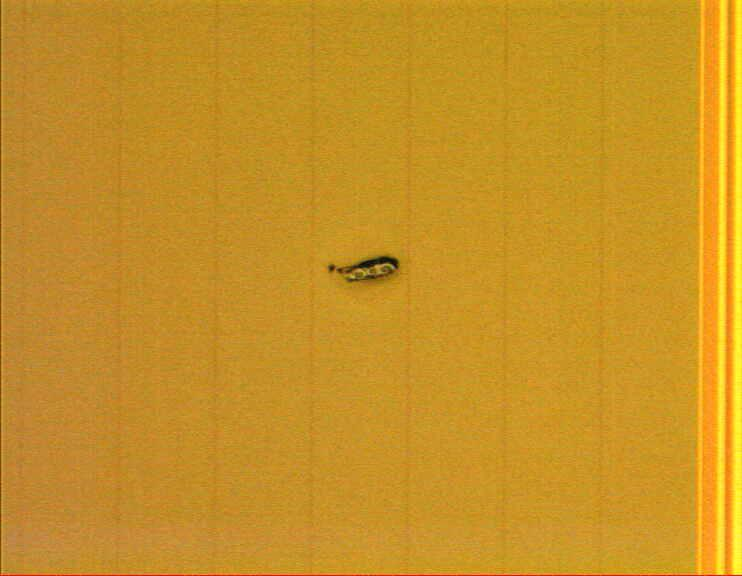PIQ PARTICLE: (322, 249, 404, 288)
